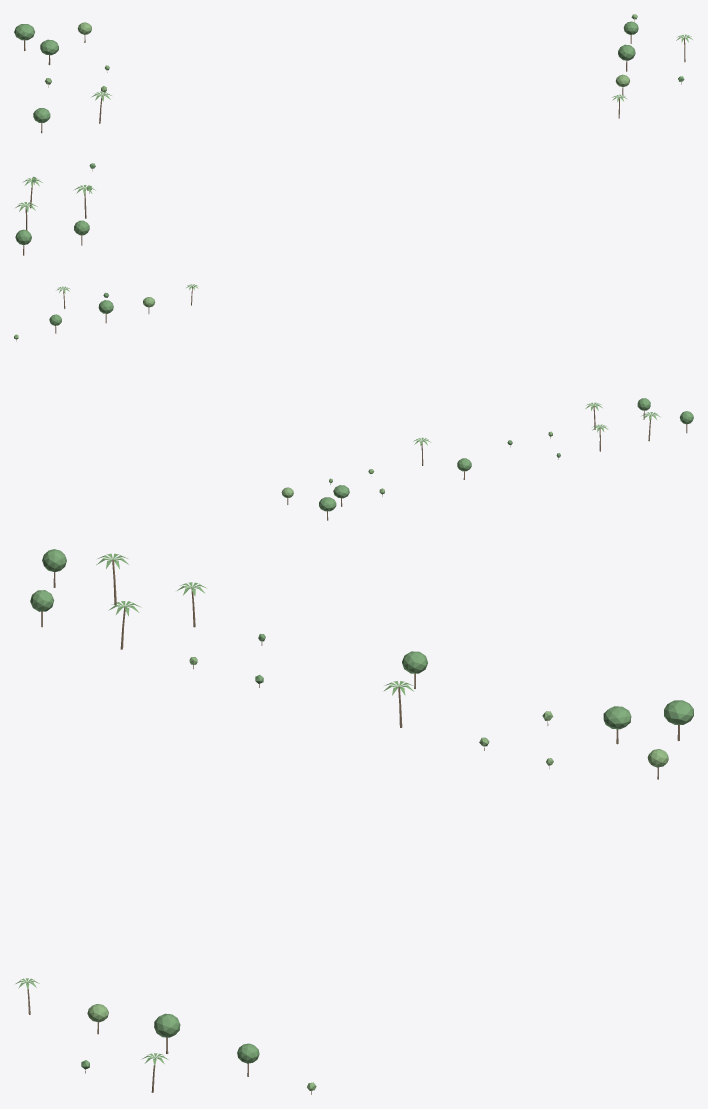
File: nature_-5_-8.glb
3 views of the same model, one above another, from view 1: azimuth 30°, elevation 25°; view 2: azimuth 150°, elevation 25°; view 3: azimuth 270°, elevation 25° (orthographic). The views are drawn at different scales.
Parts seen in each view (by area): view 1: foliage_a, palm_leaf, trunk, foliage_b; view 2: foliage_a, palm_leaf; view 3: foliage_a, palm_leaf, foliage_b, trunk.
Boxes of the visible parts, <box> form: foliage_a: <box>14,21,684,245</box>; palm_leaf: <box>15,34,692,212</box>; trunk: <box>23,19,685,255</box>; foliage_b: <box>45,14,637,190</box>; foliage_a: <box>49,292,693,511</box>; palm_leaf: <box>56,284,660,445</box>; foliage_a: <box>30,549,693,1069</box>; palm_leaf: <box>15,553,414,1065</box>; foliage_b: <box>87,657,668,1090</box>; trunk: <box>27,560,679,1094</box>.
Size of the model in its own units: 212 by 8.84 by 118.
